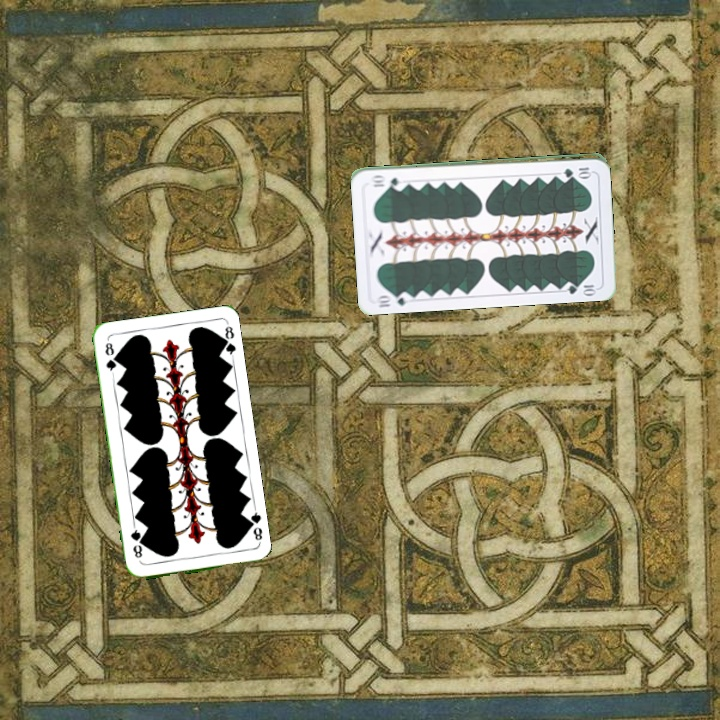G10: (374, 288, 413, 310), (559, 163, 594, 177)
G8: (243, 506, 265, 547), (101, 338, 119, 377)
